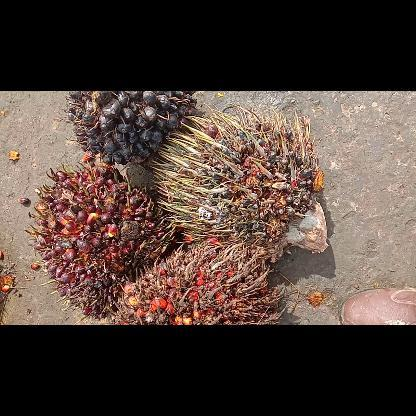TBS abnormal: (153, 102, 331, 256)
TBS masak: (29, 165, 169, 315)
TBS mentah: (67, 91, 194, 161)
Terlalu masak: (108, 244, 282, 324)
